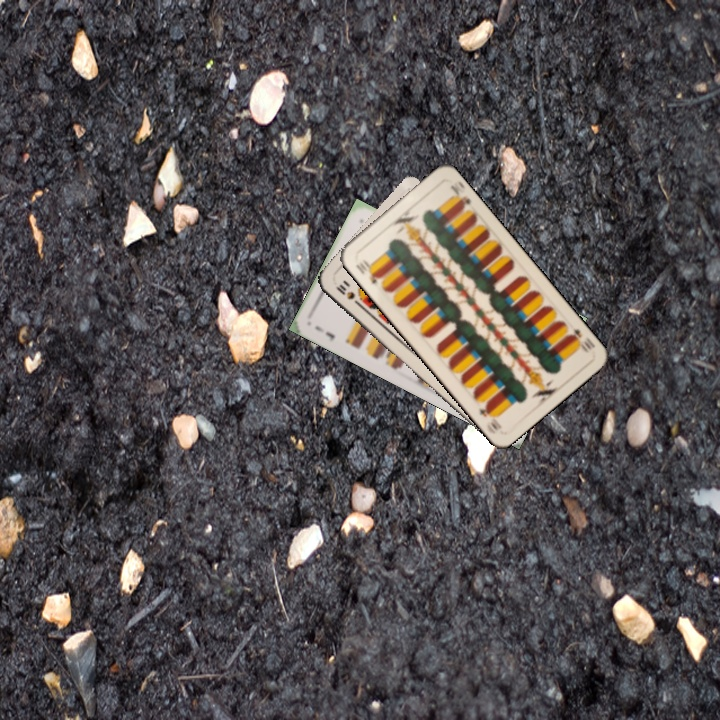E10: (564, 324, 598, 356), (352, 255, 383, 286)
E7: (311, 322, 337, 344)
S10: (332, 280, 363, 309)
